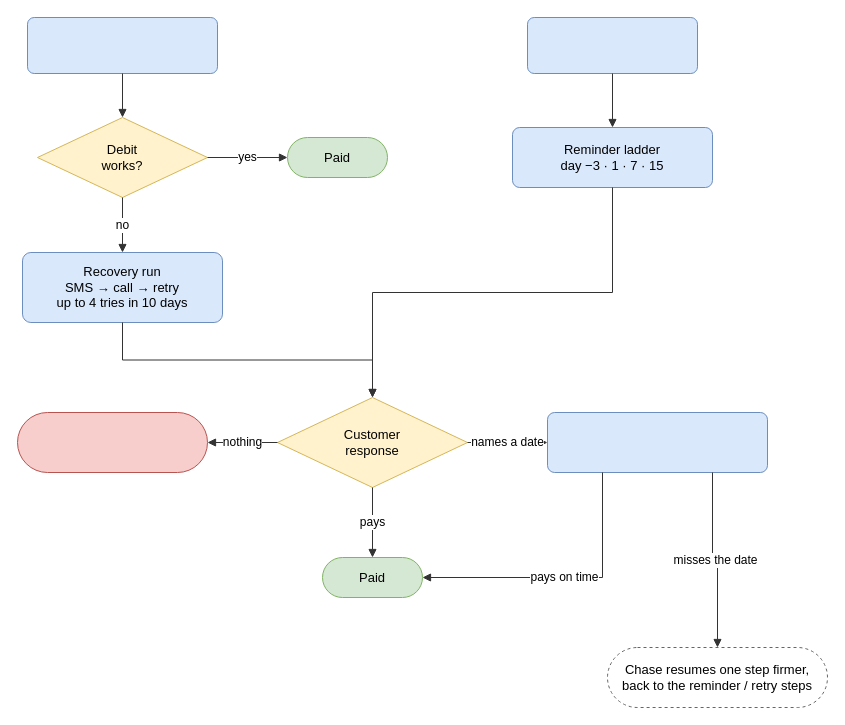
This 845x725 diagram has some shape labels left out. Each missing label, with the centre of its shape:
Autopay → lost Invoice → finance team decides: the point at 112,442
Business invoice: the point at 612,45
Card autopay notice ≥ 24 h, then debit: the point at 122,45
Promise chasing pauses: the point at 657,442
